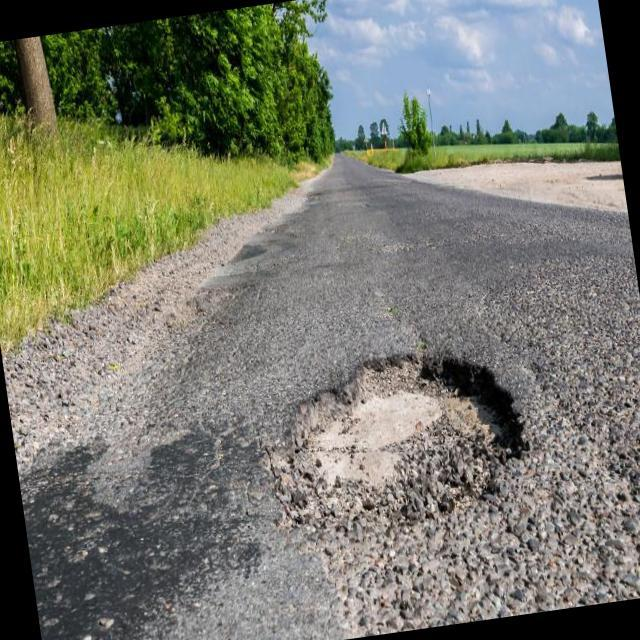Pothole: (275, 356, 593, 640)
